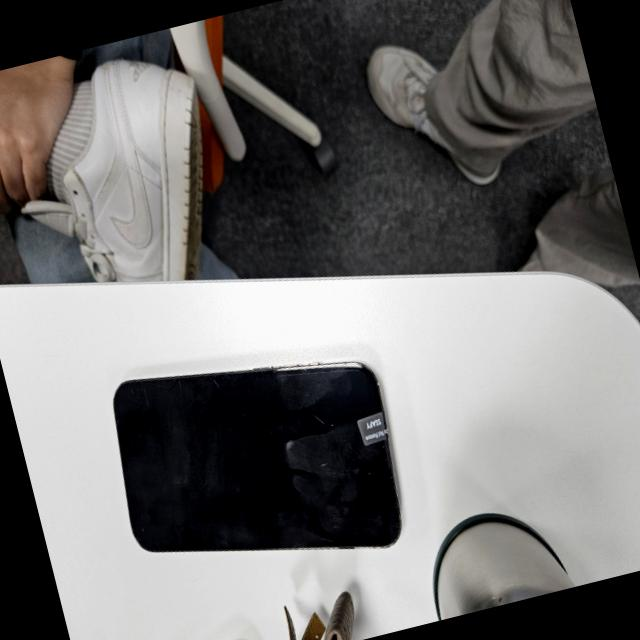phone: (96, 320, 418, 606)
sticker: (357, 412, 391, 444)
